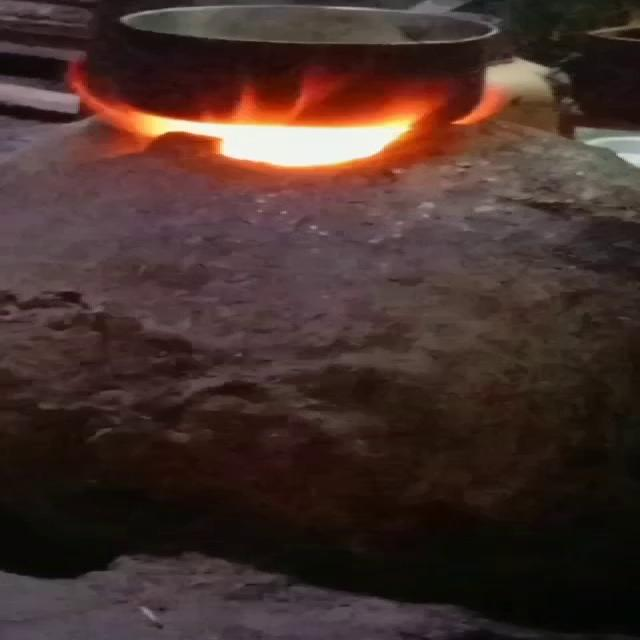Fire: (76, 59, 488, 178)
